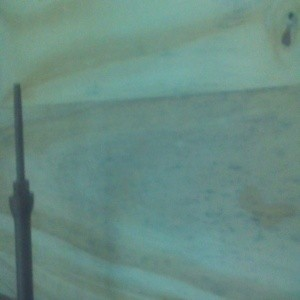obeng: (7, 81, 35, 300)
